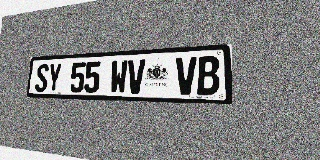5: (84, 61, 101, 93), (70, 62, 86, 93)
B: (197, 56, 220, 95)
S: (35, 64, 49, 92)
V: (175, 57, 197, 95), (127, 59, 145, 94)
W: (110, 60, 128, 94)
Y: (47, 63, 62, 92)
